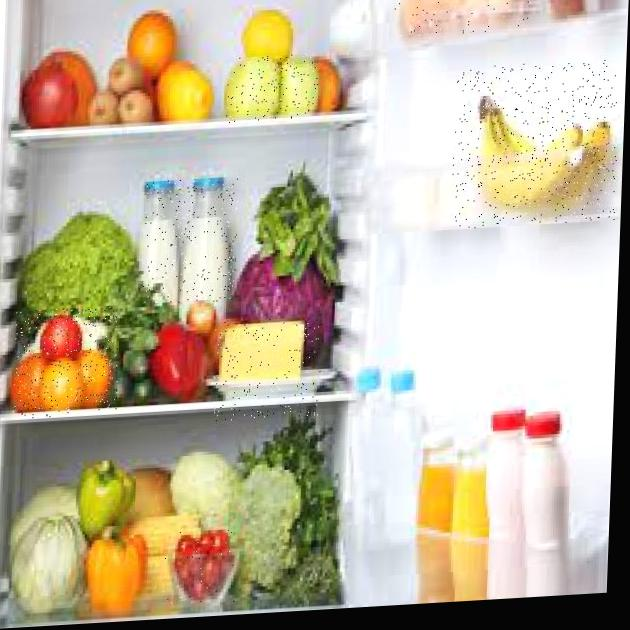apple: (226, 53, 319, 124)
banana: (451, 58, 620, 230)
cheese: (212, 316, 322, 421)
eggs: (394, 0, 532, 39)
milk: (142, 176, 239, 307)
tomatoes: (12, 305, 120, 420), (161, 528, 243, 612)
